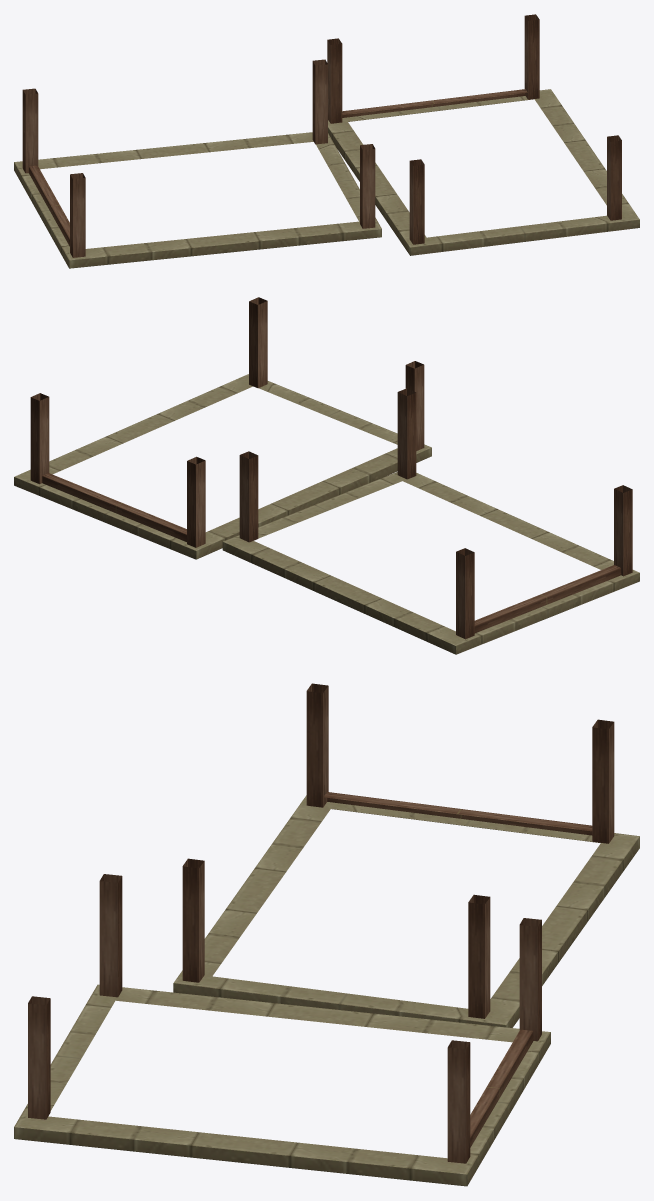
Rendered from Area_09_21.fbx.
3 renders of one model, top to bottom at view 1: azimuth 30°, elevation 25°; view 2: azimuth 150°, elevation 25°; view 3: azimuth 270°, elevation 25°, orthographic. The views are drawn at different scales.
Parts seen in each view (by area): view 1: Area_09_21; view 2: Area_09_21; view 3: Area_09_21.
Part boxes in pixels (x1,y1,x2,y2): Area_09_21: (14, 14, 639, 268); Area_09_21: (14, 297, 639, 654); Area_09_21: (14, 683, 639, 1186).
Bounding box in the file's own units: 2399 × 372 × 1668.
